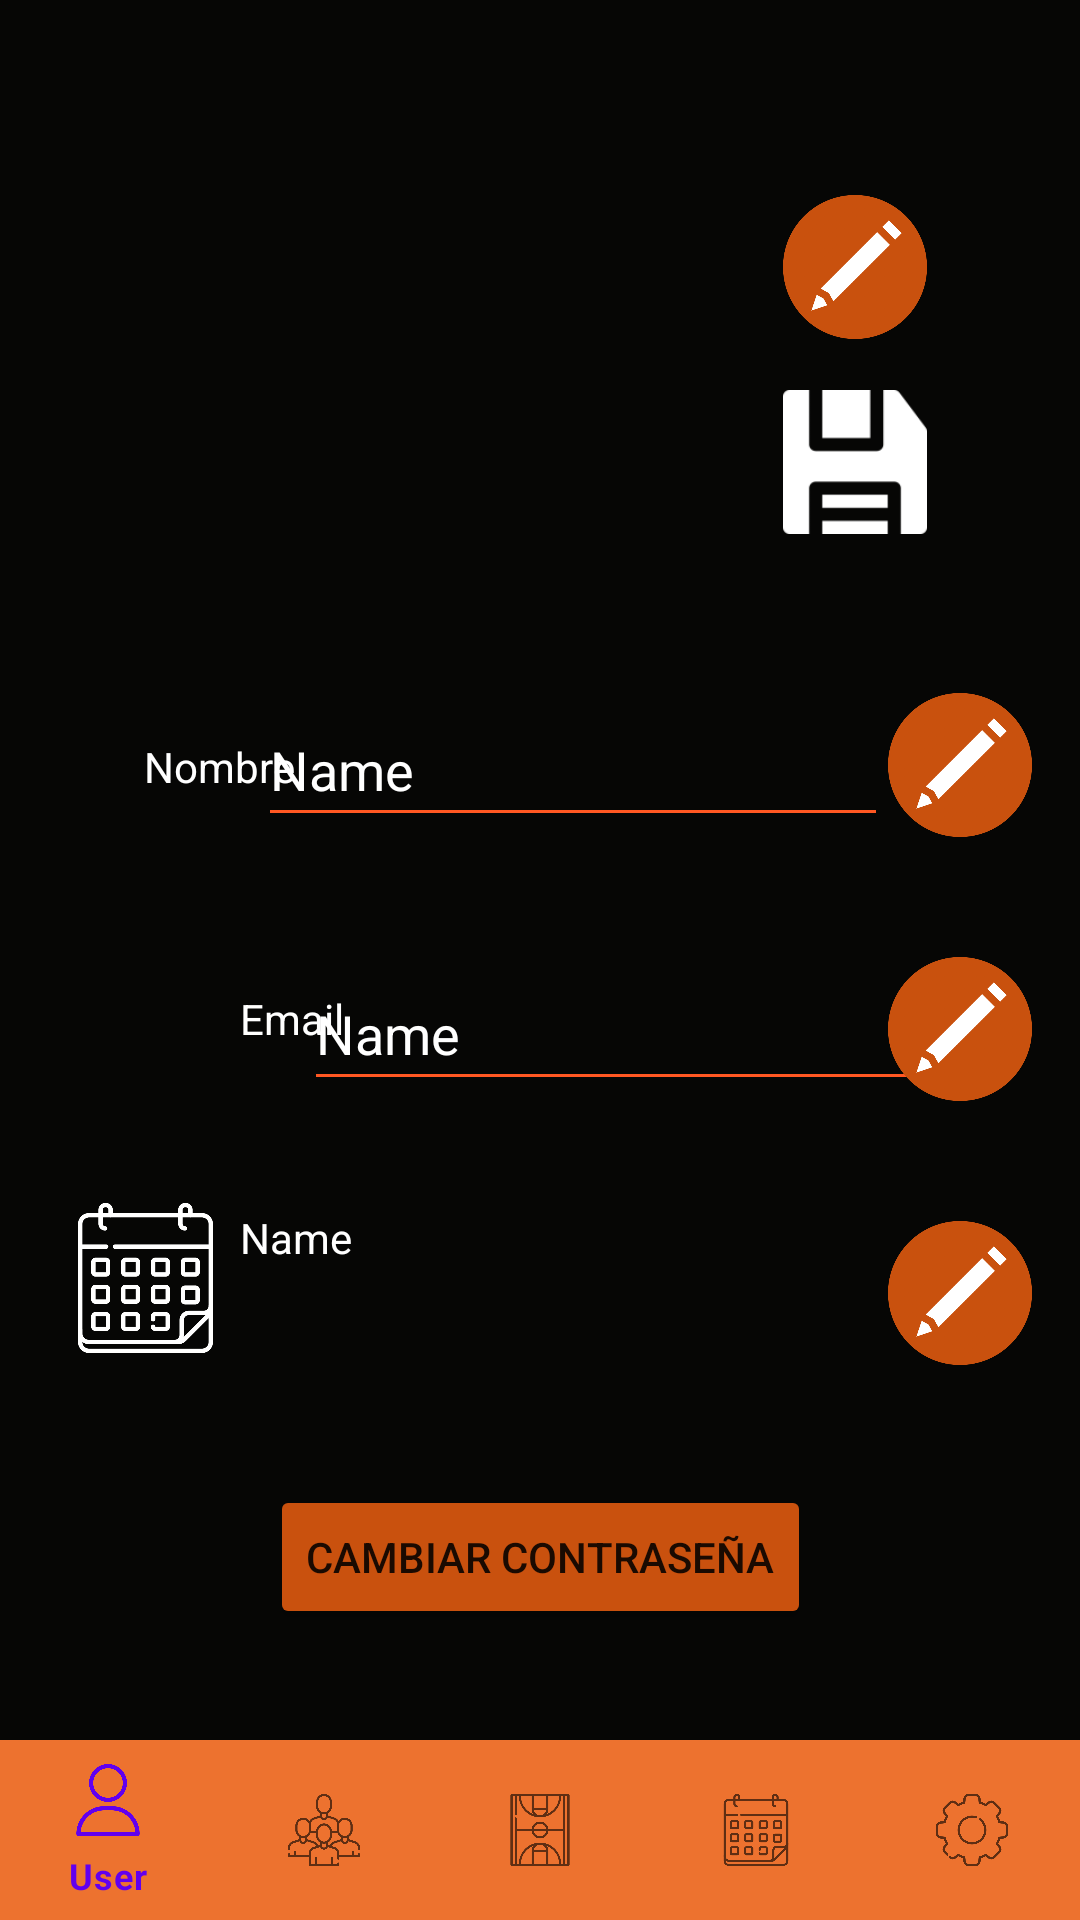

Locate icon controls on the screen. Image size 1080*1920, boxes as (x1, y1, x2, y2).
calendario: (78, 1203, 213, 1353)
editar: (783, 195, 927, 339), (888, 693, 1032, 837)
guardarfoto: (783, 390, 927, 534)
